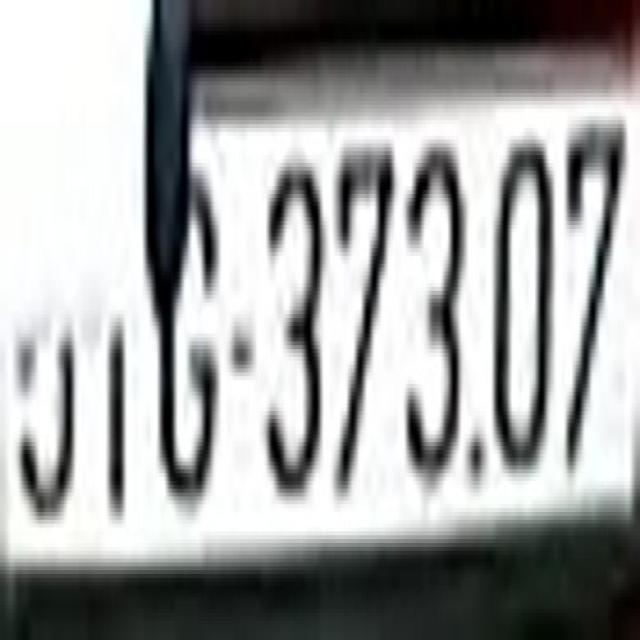0: (490, 116, 553, 492)
1: (101, 101, 130, 535)
3: (403, 132, 461, 492), (264, 155, 323, 493)
5: (18, 128, 76, 512)
7: (562, 113, 626, 473), (334, 144, 392, 508)
G: (159, 132, 217, 504)
